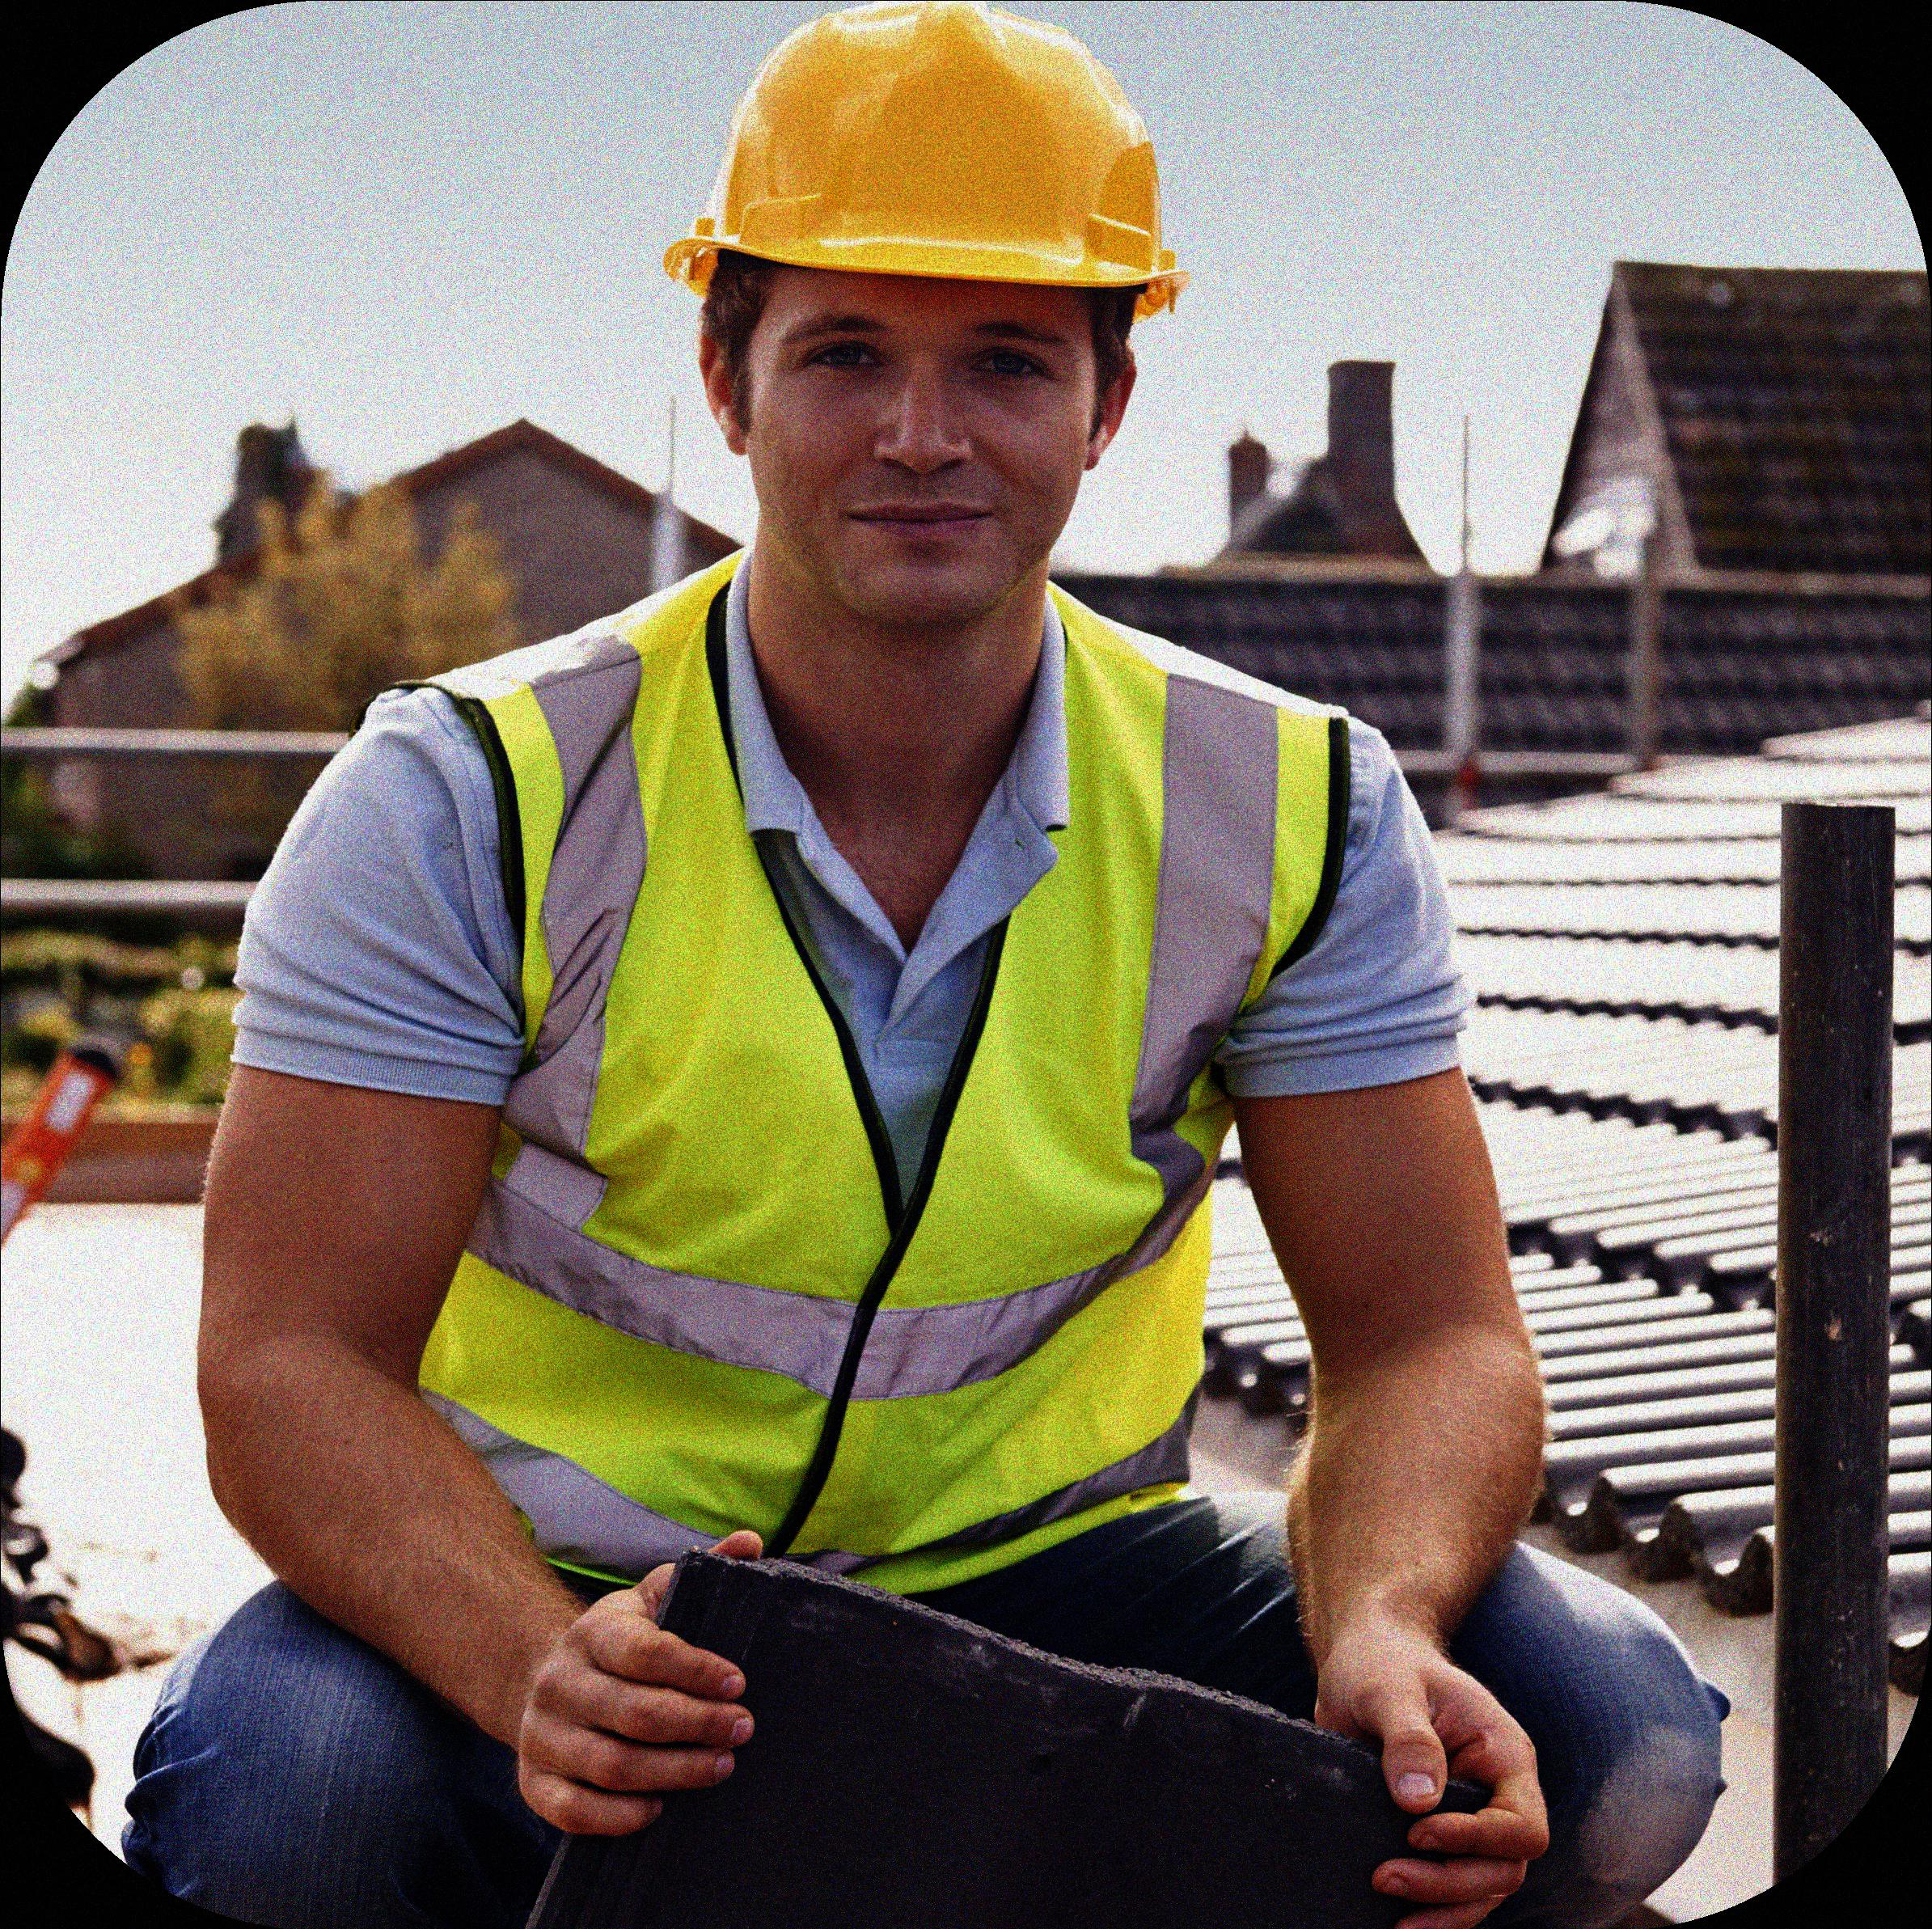helmet: (650, 0, 1192, 638)
